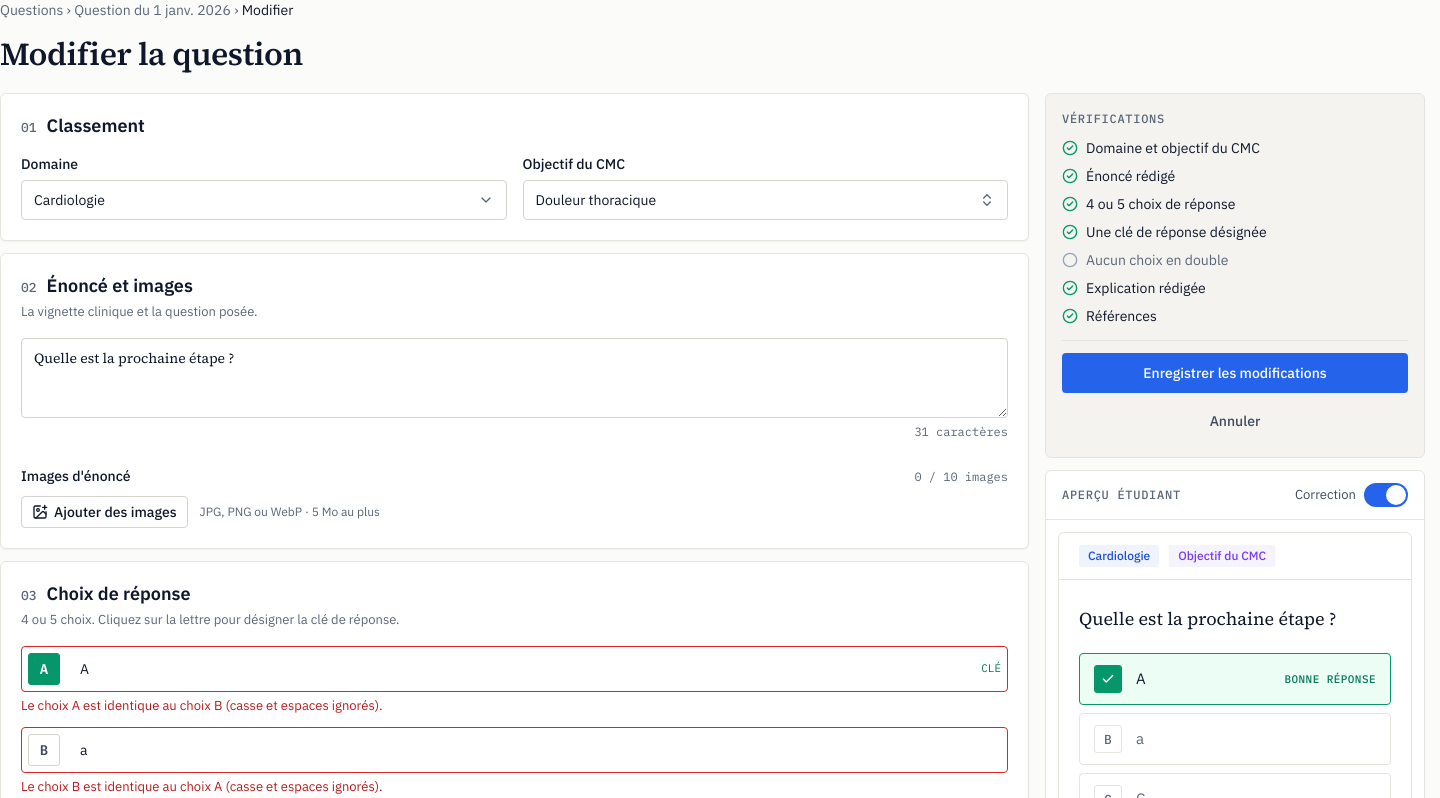
it: QuestionForm — choix de réponse › deux choix identiques : messages en direct, rien n'est envoyé
Check: the text "Le choix B est identique au choix A (casse et espaces ignorés)." is shown, box x1=21 y1=778 x2=383 y2=795
Click the button with test id "btn-save-question": (1235, 373) x1=1062 y1=353 x2=1408 y2=393
(page scrolled)
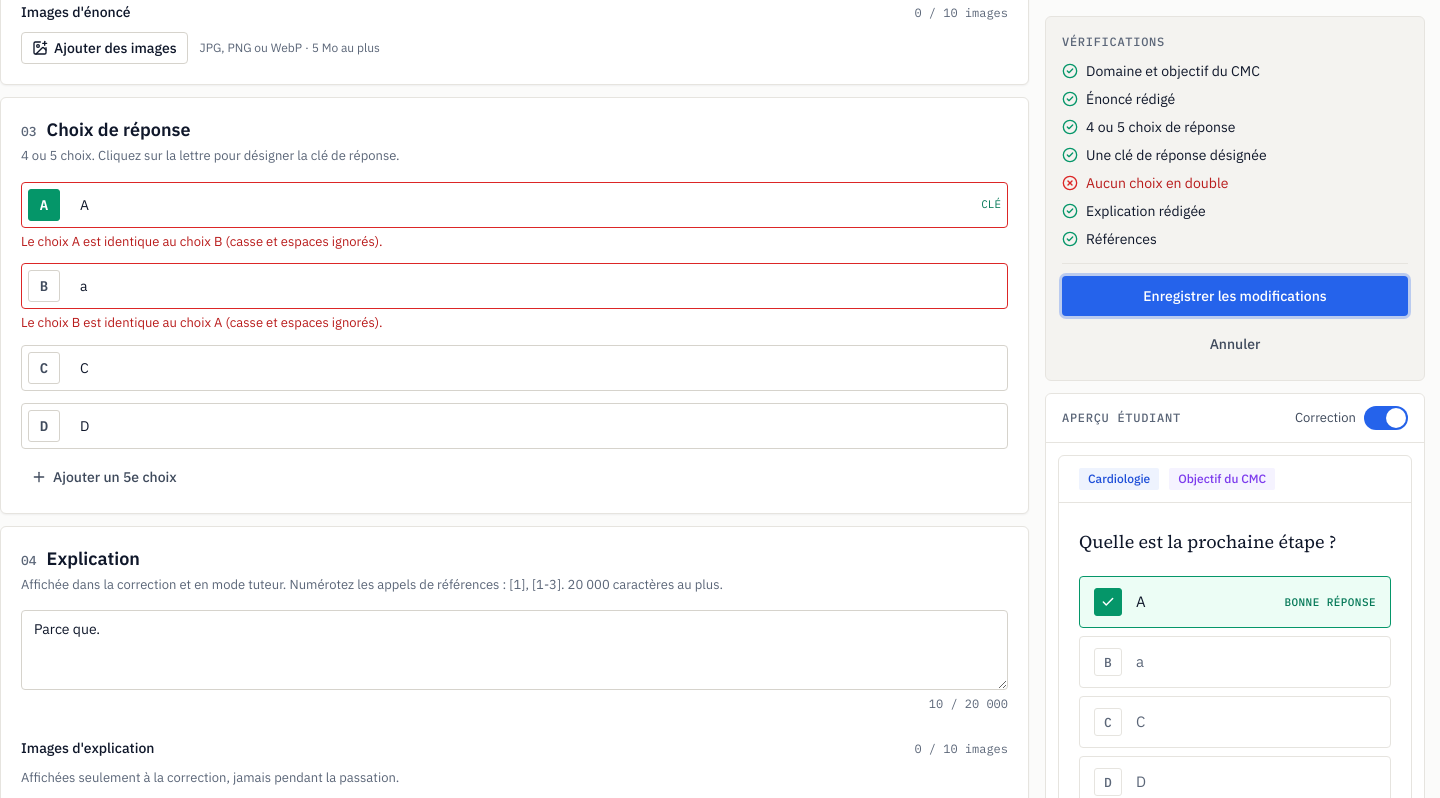
Click the field with test id "option-input-1": (534, 286) x1=68 y1=270 x2=1001 y2=302
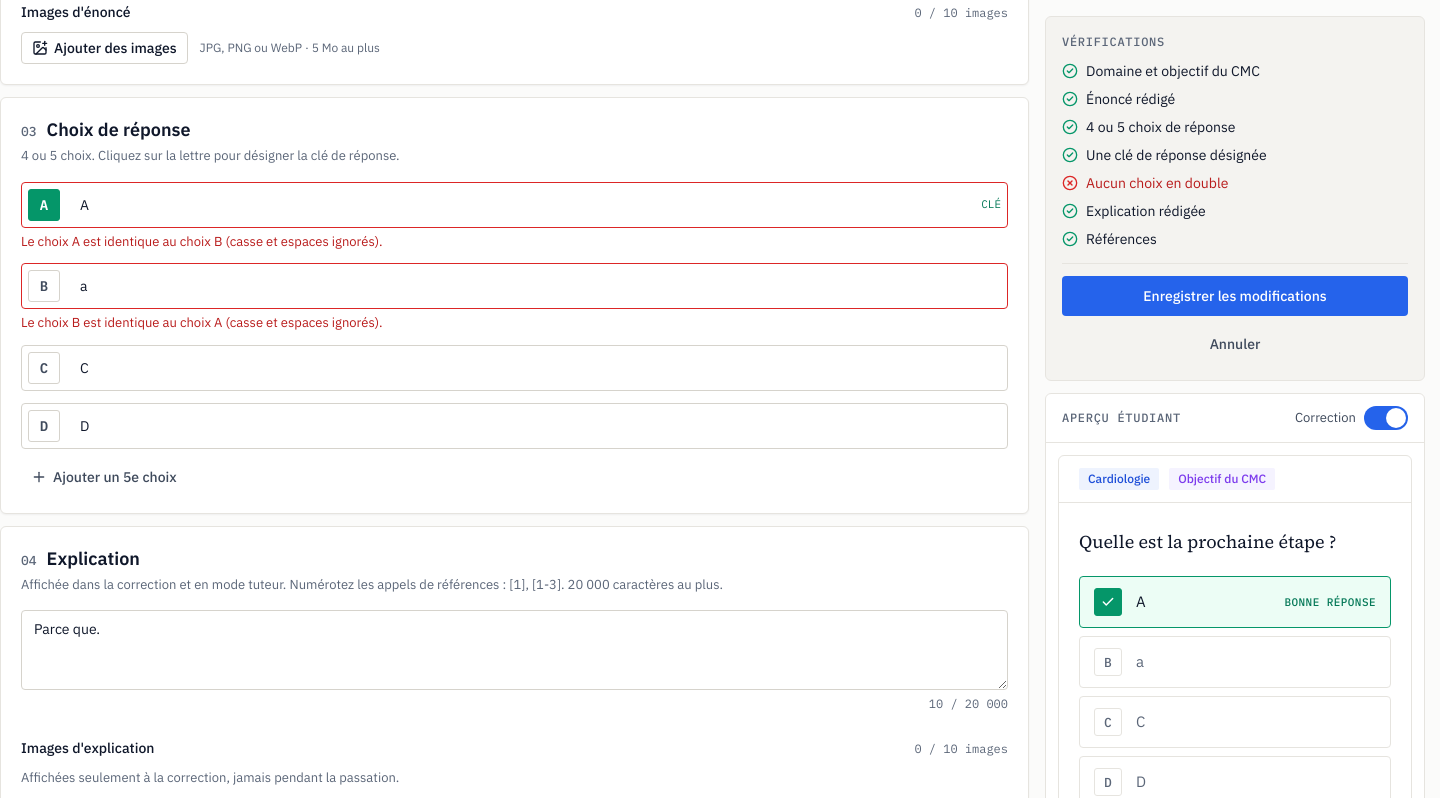
Type keys "2"
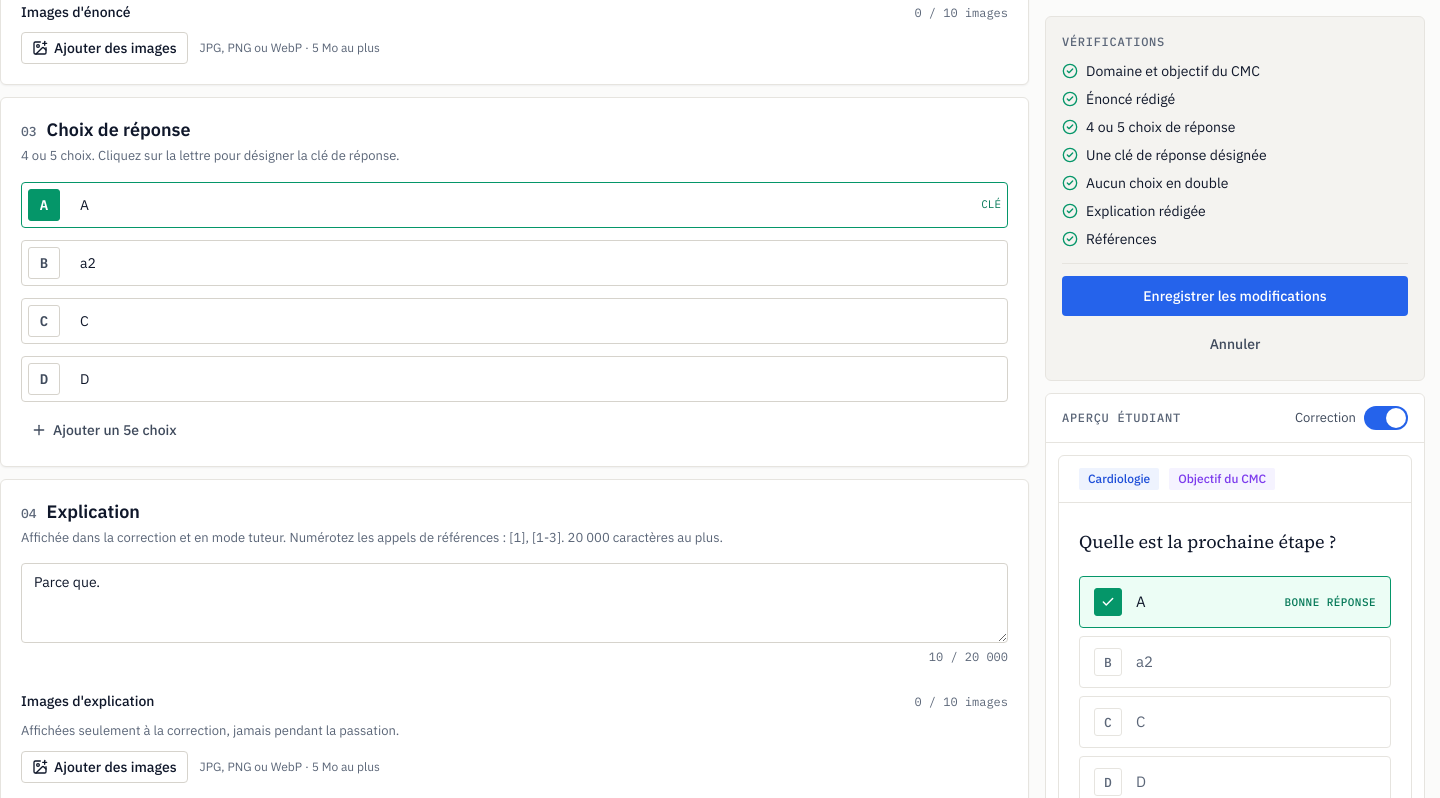
Check: the text "Le choix B est identique" is gone
